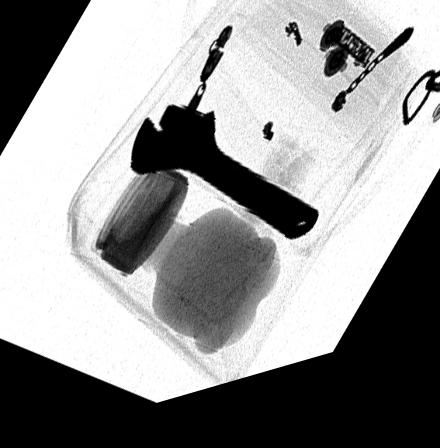Wrench: (127, 114, 319, 261)
